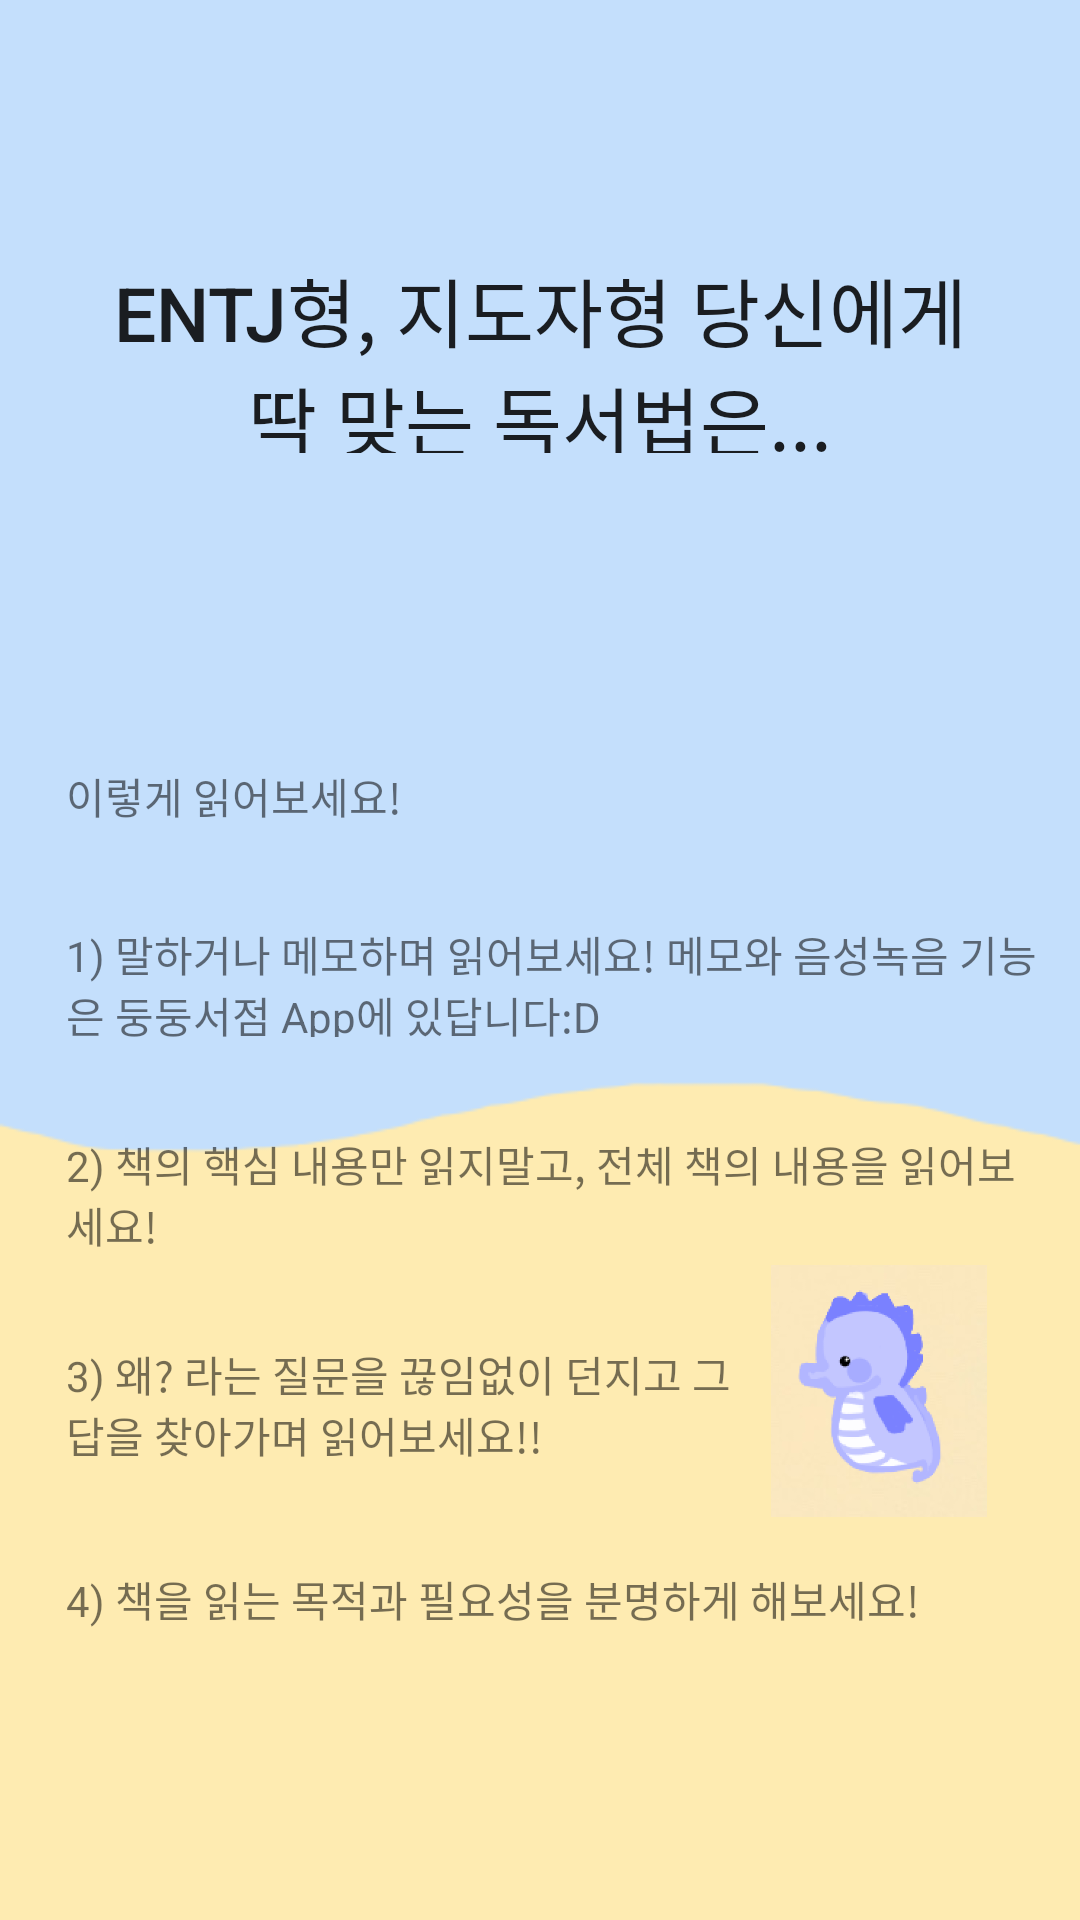

Icons on this 1080px×1920px Android screen, each with the point to tap as [x,y]:
seahorse: [869,1387]
